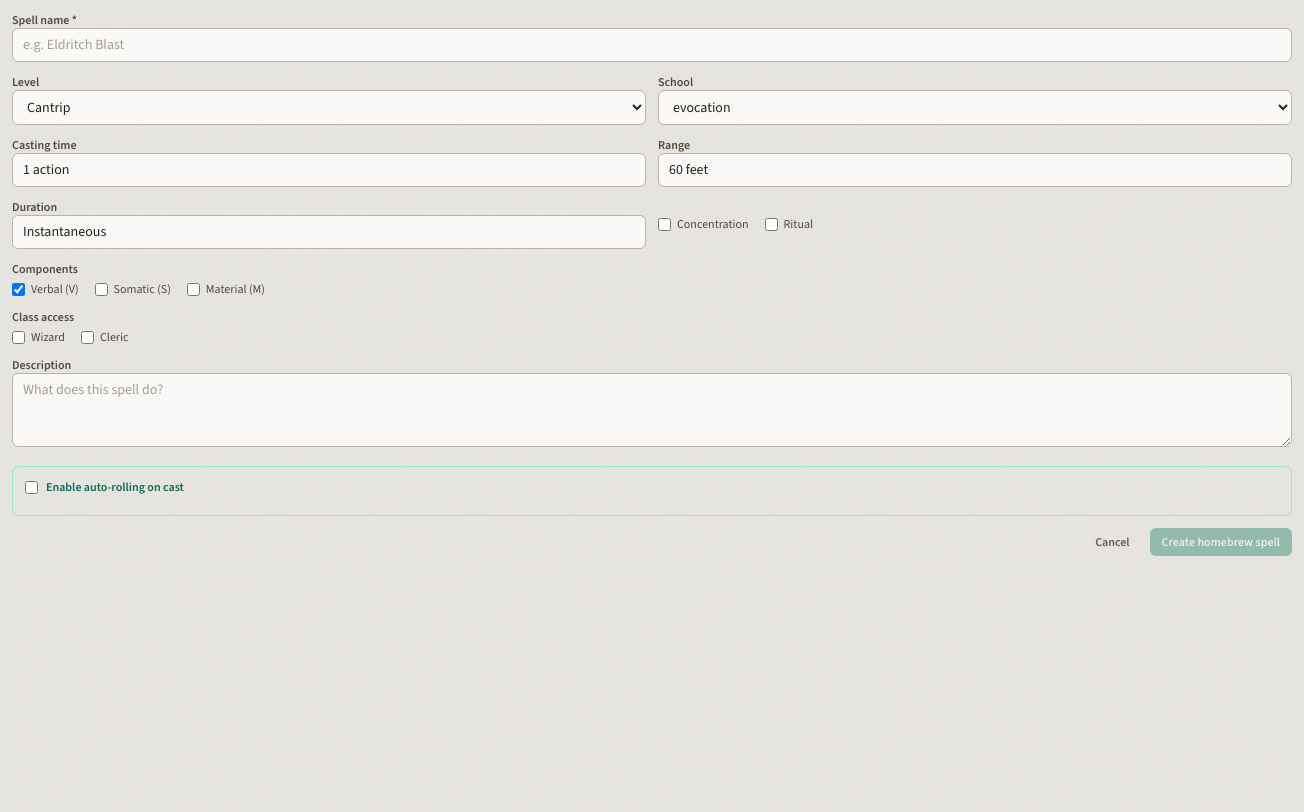
it: HomebrewSpellForm › renders the core fields
Expected: the field labelled "Spell name *" is shown, [12,28,1292,62]
Expected: the dropdown labelled "Level" is shown, [12,90,646,125]
Click the checkbox labelled "Enable auto-rolling on cast". click: (32, 487)
box: [25,480,38,494]
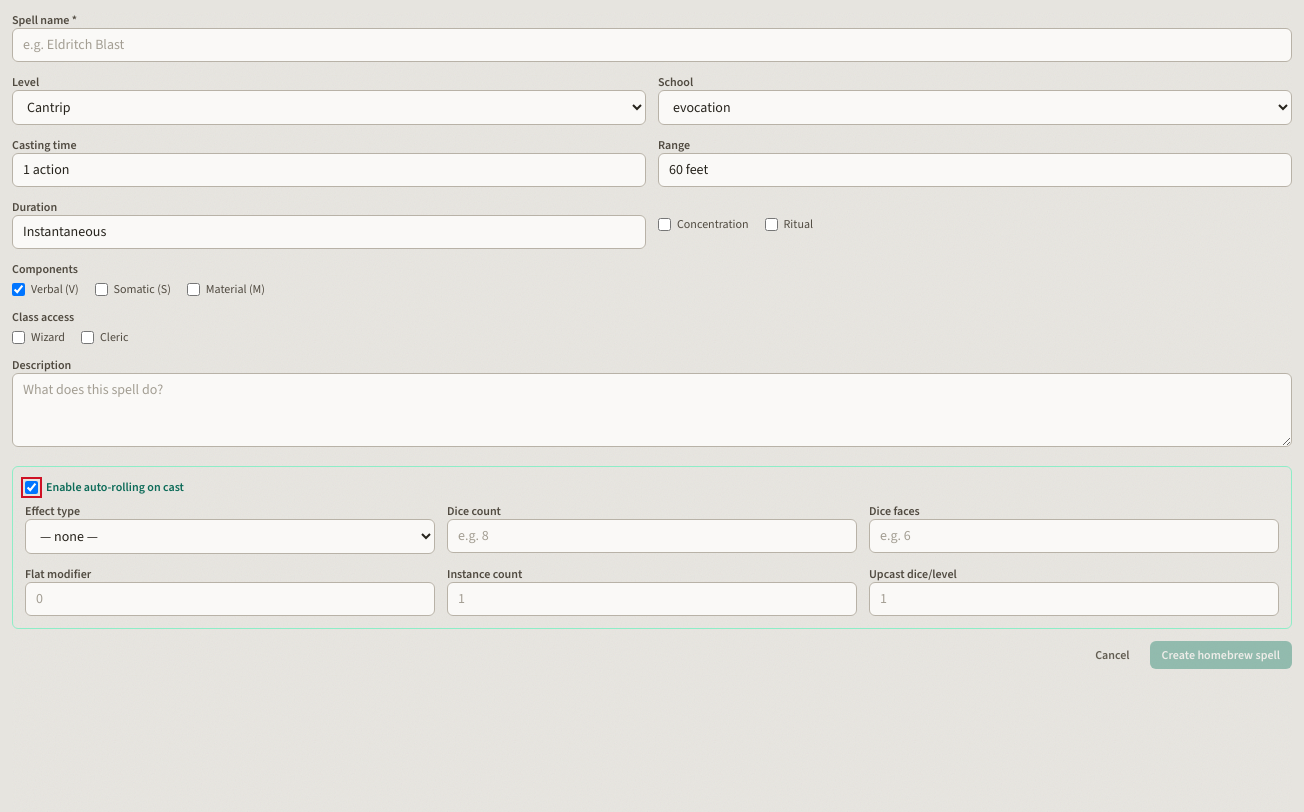
Now the number field labelled "Upcast dice/level" is shown, box [869,582,1279,616]
